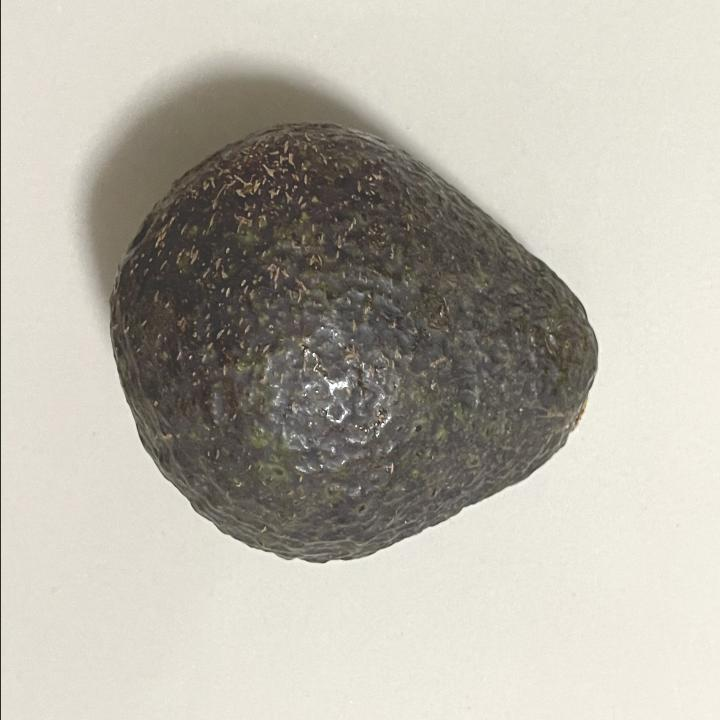Level1: (99, 105, 611, 590)
